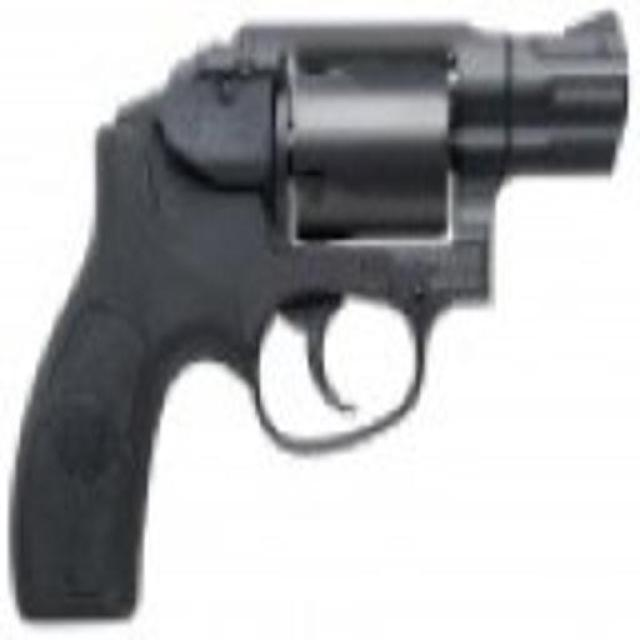pistol: (7, 10, 631, 617)
